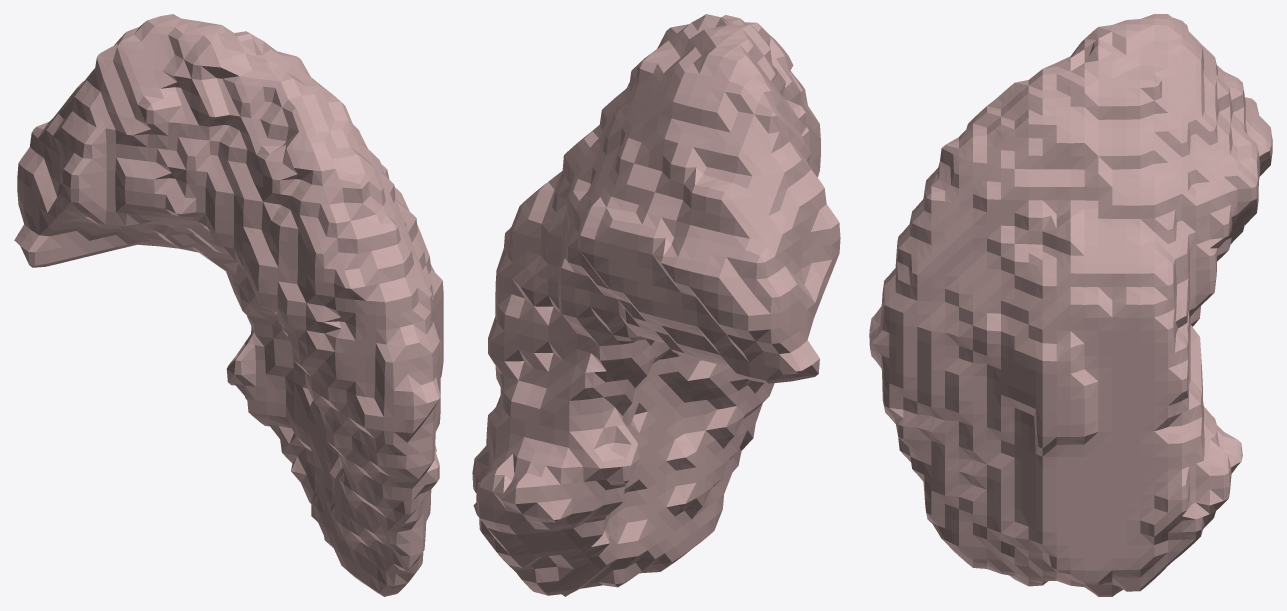
File: r_putamen.glb
The picture shows the model from 3 angles, left to right: view 1: azimuth 30°, elevation 25°; view 2: azimuth 150°, elevation 25°; view 3: azimuth 270°, elevation 25°; orthographic projection. The views are drawn at different scales.
Parts seen in each view (by area): view 1: world; view 2: world; view 3: world.
Boxes of the visible parts, x1,y1,x2,y2 form: world: (14,14,443,596); world: (472,14,840,596); world: (869,14,1272,596).
Size of the model in its own units: 24.86 by 39.85 by 28.93.
